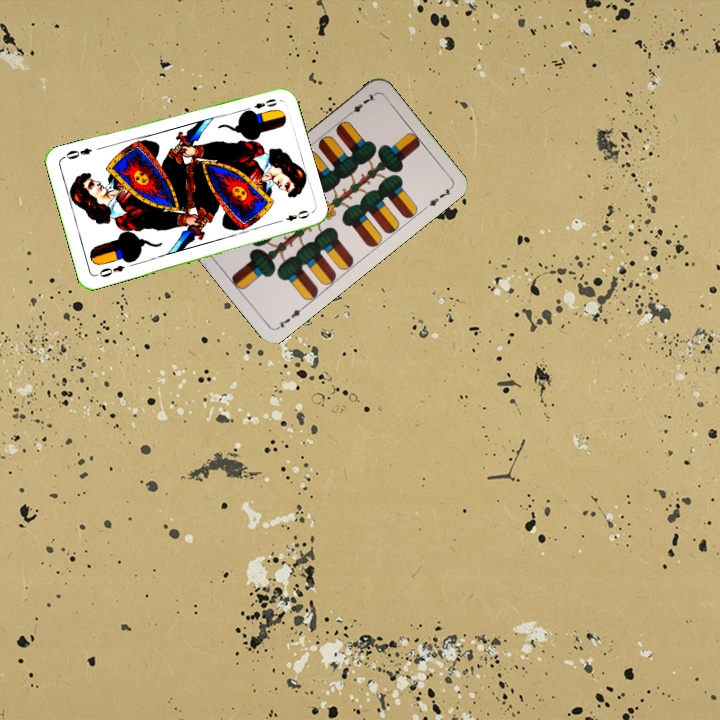E7: (344, 89, 378, 119), (273, 302, 307, 332)
EO: (241, 94, 280, 115), (92, 261, 127, 280)
